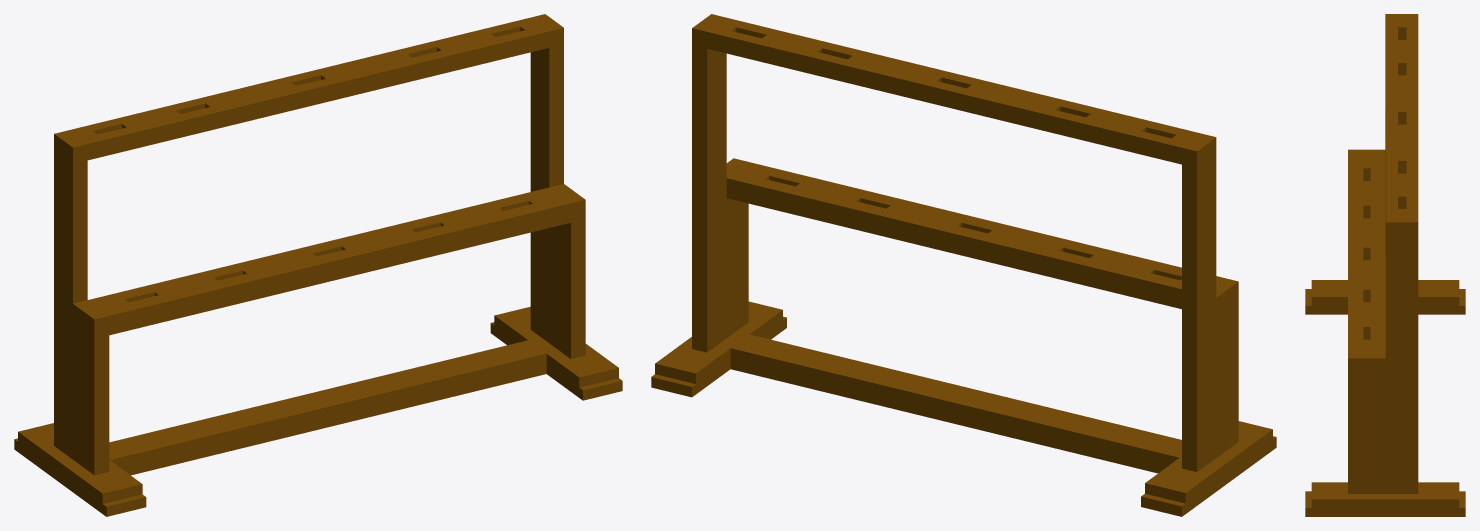
The model's file is WeaponRack_01.fbx.
The picture shows the model from 3 angles, left to right: view 1: azimuth 30°, elevation 25°; view 2: azimuth 150°, elevation 25°; view 3: azimuth 270°, elevation 25°; orthographic projection. The views are drawn at different scales.
Parts seen in each view (by area): view 1: WeaponRack_01; view 2: WeaponRack_01; view 3: WeaponRack_01.
Part boxes in pixels (x1,y1,x2,y2): WeaponRack_01: (14, 14, 622, 516); WeaponRack_01: (651, 14, 1276, 516); WeaponRack_01: (1305, 14, 1465, 516).
Size of the model in its own units: 156 by 95.79 by 48.16.
